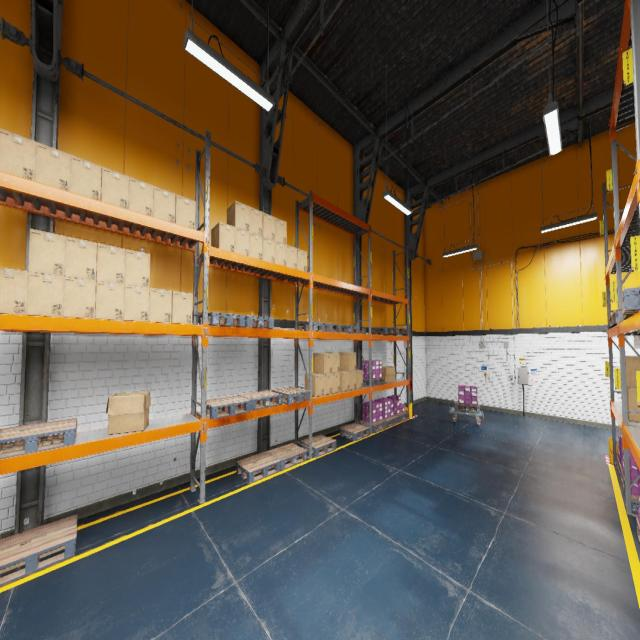box: (0, 128, 36, 181), (106, 391, 150, 434), (35, 142, 71, 192), (28, 229, 66, 276), (27, 272, 64, 316), (64, 236, 97, 280), (70, 155, 101, 200), (63, 277, 96, 318), (0, 267, 28, 315), (96, 243, 125, 284), (101, 167, 129, 209), (95, 281, 124, 320), (125, 249, 150, 287), (129, 177, 153, 216), (124, 285, 149, 321), (148, 287, 172, 323), (153, 185, 175, 223), (227, 200, 250, 232), (175, 194, 196, 229), (211, 222, 235, 252), (172, 291, 192, 324), (626, 387, 640, 422), (625, 356, 640, 387), (305, 373, 324, 396), (313, 353, 332, 374), (249, 232, 263, 260), (235, 228, 249, 256), (250, 207, 262, 236), (263, 212, 275, 240), (339, 352, 356, 371), (324, 352, 340, 372), (263, 237, 275, 263), (342, 370, 356, 390), (276, 218, 286, 244), (276, 241, 286, 266), (380, 366, 395, 382), (297, 248, 307, 272), (287, 245, 297, 269), (340, 370, 349, 391), (324, 373, 332, 395), (332, 373, 340, 393), (356, 369, 363, 389)
pallets: (0, 514, 77, 586), (0, 418, 77, 458), (236, 452, 281, 484), (201, 396, 251, 419), (267, 443, 307, 470), (238, 391, 282, 410), (301, 434, 336, 457), (271, 387, 310, 404), (199, 312, 245, 326), (340, 423, 370, 441), (622, 286, 640, 314), (625, 481, 639, 514), (244, 316, 274, 328), (298, 322, 332, 332), (359, 420, 387, 432), (454, 401, 480, 413), (317, 324, 348, 333), (608, 315, 626, 327), (343, 325, 366, 334), (382, 416, 399, 428), (393, 411, 409, 423), (372, 327, 398, 334), (363, 378, 385, 386), (611, 312, 624, 325), (386, 328, 407, 335), (620, 467, 625, 492), (636, 518, 640, 545), (617, 456, 621, 477), (624, 314, 633, 318)
